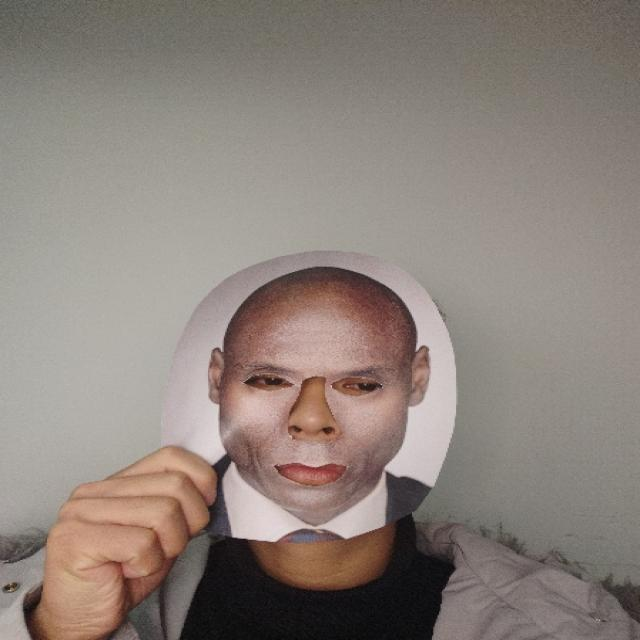mask: (156, 251, 464, 546)
